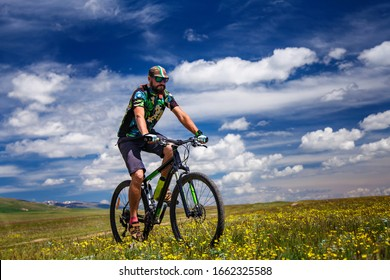commuter: (108, 64, 224, 252)
